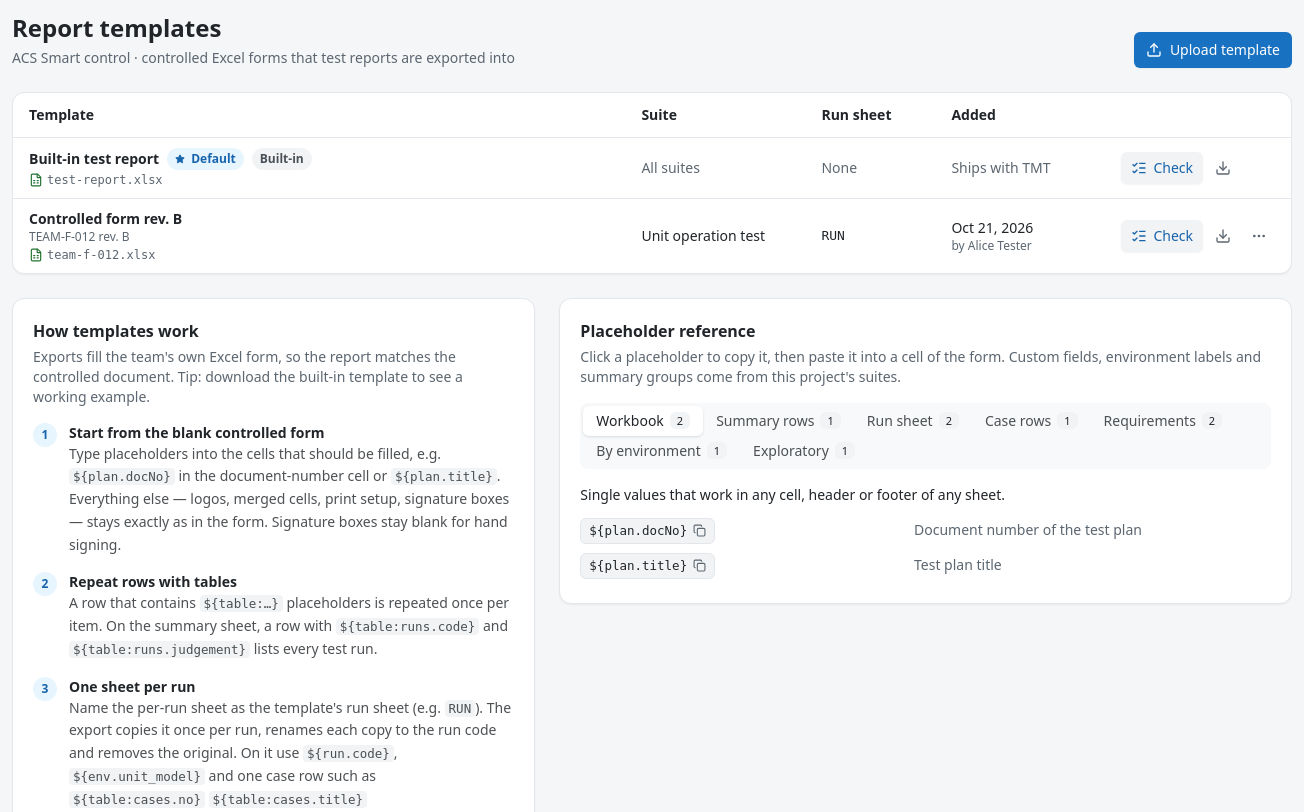
TemplatesPage › lists the templates and the placeholder reference
This screenshot has width=1304, height=812.
Expected: the text "Default" is shown, [167,148,244,170]
Expected: the text "Built-in" is shown, [252,148,312,170]
Step 1. Click the tab "Run sheet 2" → click(913, 420), box [854,406,972,436]
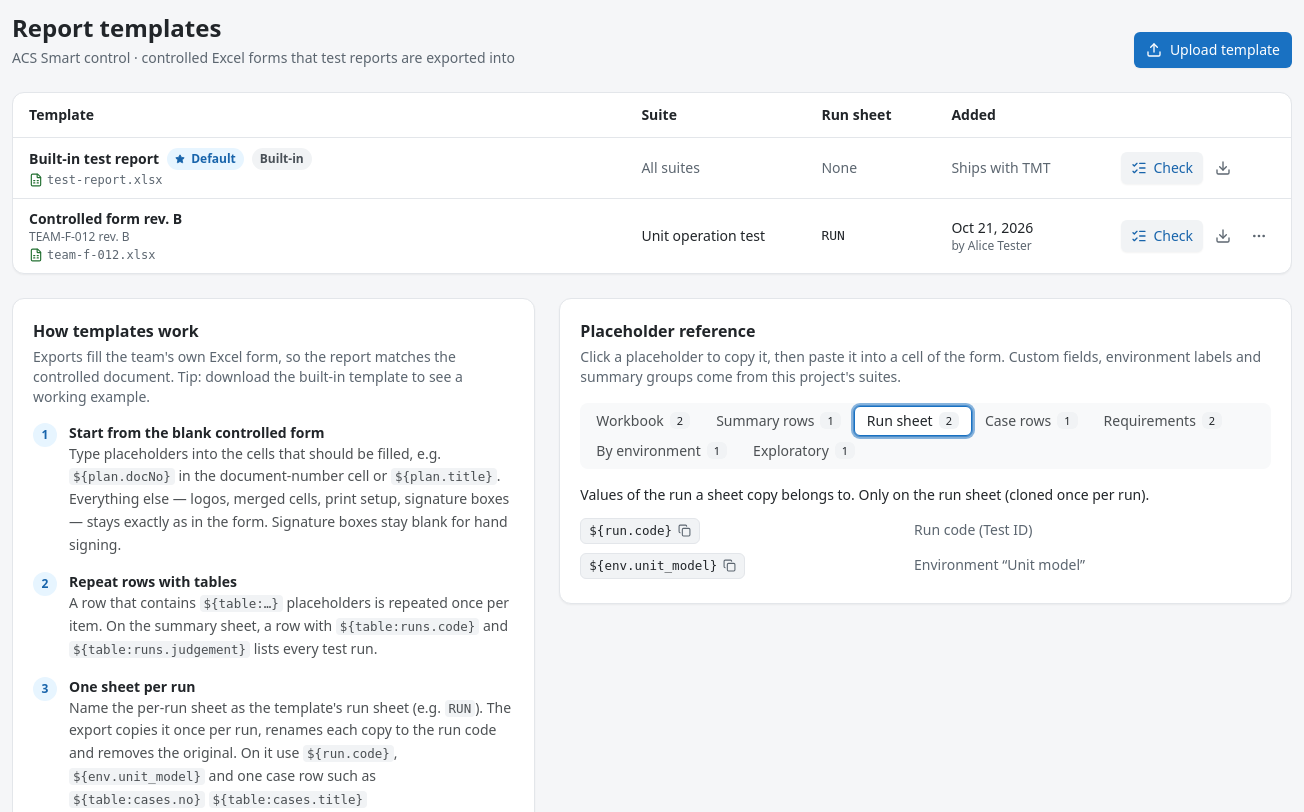
Expected: the text "Environment “Unit model”" is shown, [914,555,1085,574]
Tables that work on every sheet have their own tabs, with the number of placeholders.
Step 2. Click the tab "Requirements 2" → click(1163, 420), box [1091,406,1235,436]
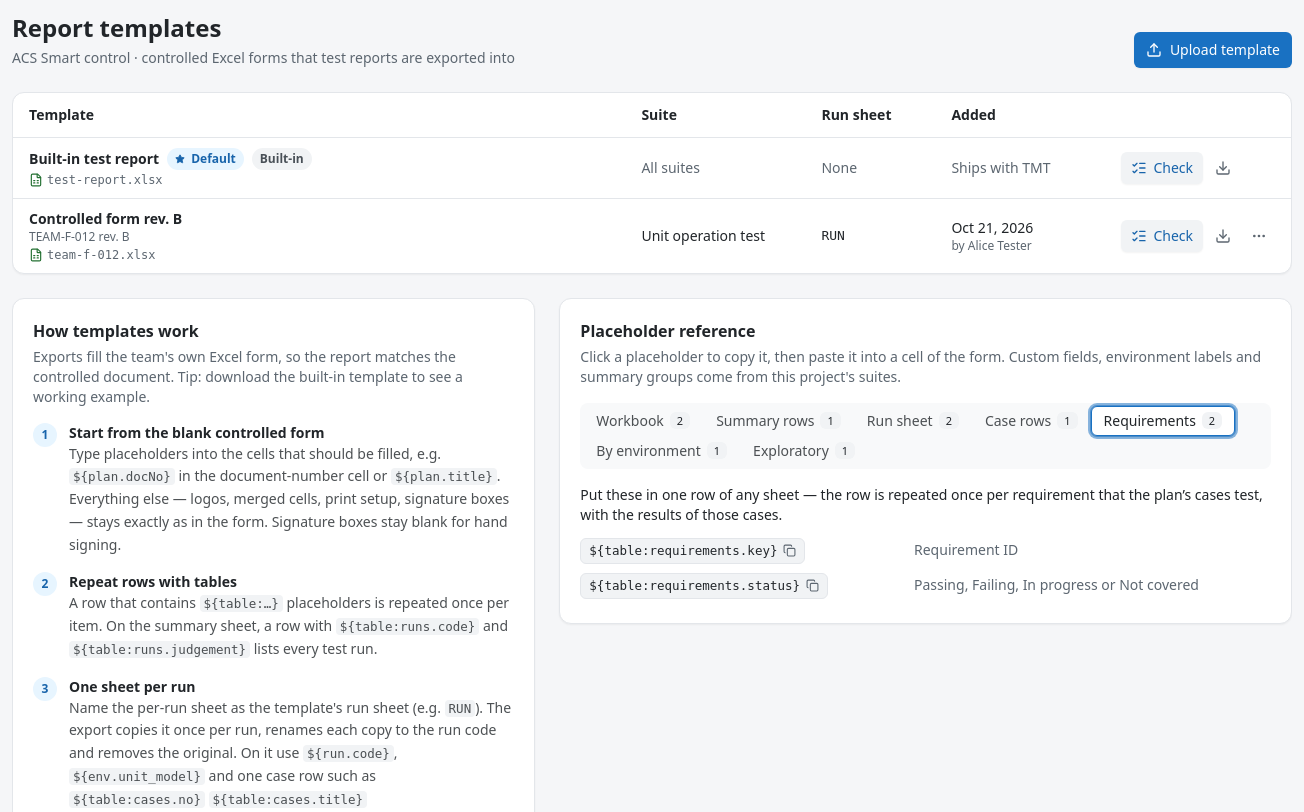
Expected: the text "Passing, Failing, In progress or Not covered" is shown, [914,575,1199,594]
Expected: the button with aria-label "Copy ${table:requirements.key}" is shown, [580,538,806,564]
Step 3. Click the tab "Exploratory 1" → click(804, 450), box [740,436,868,466]
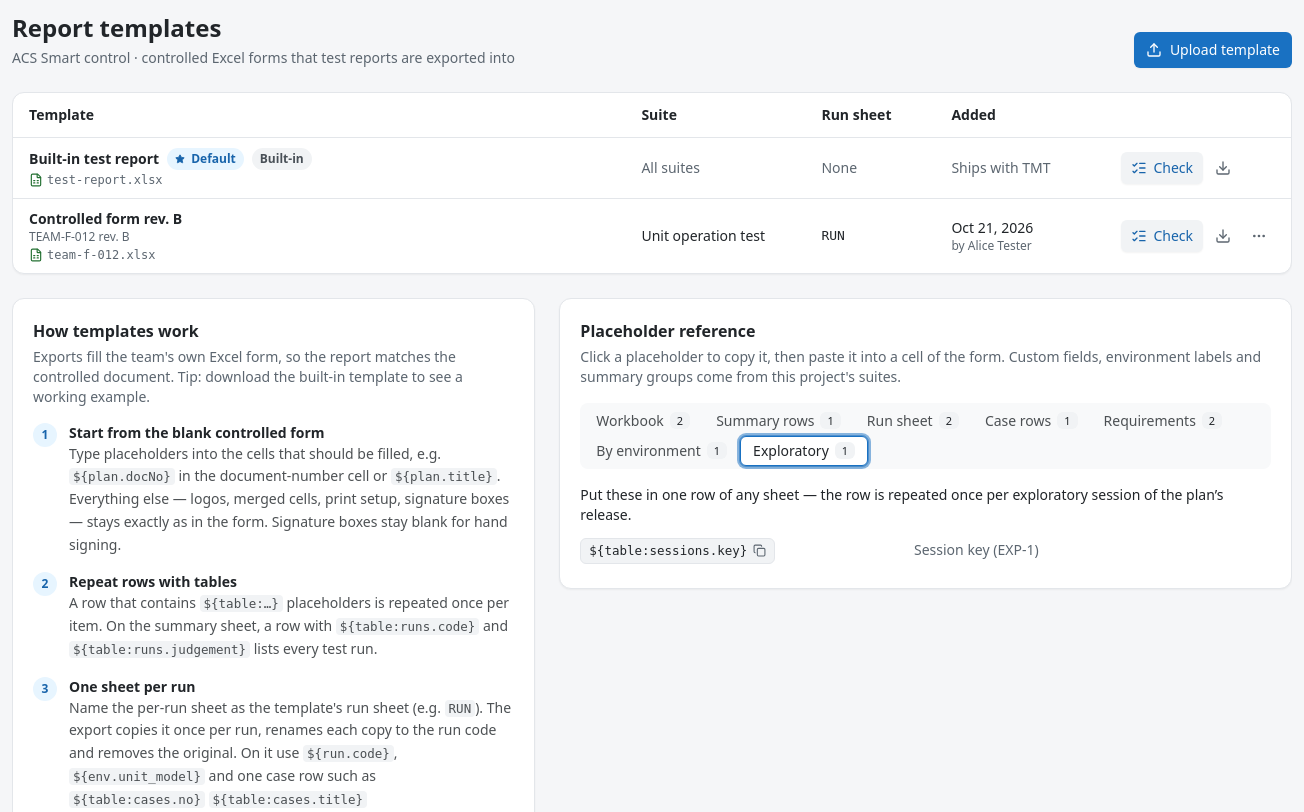
Expected: the text "Session key (EXP-1)" is shown, [914,540,1039,559]
Step 4. Click the tab "By environment 1" → click(662, 450), box [583,436,740,466]
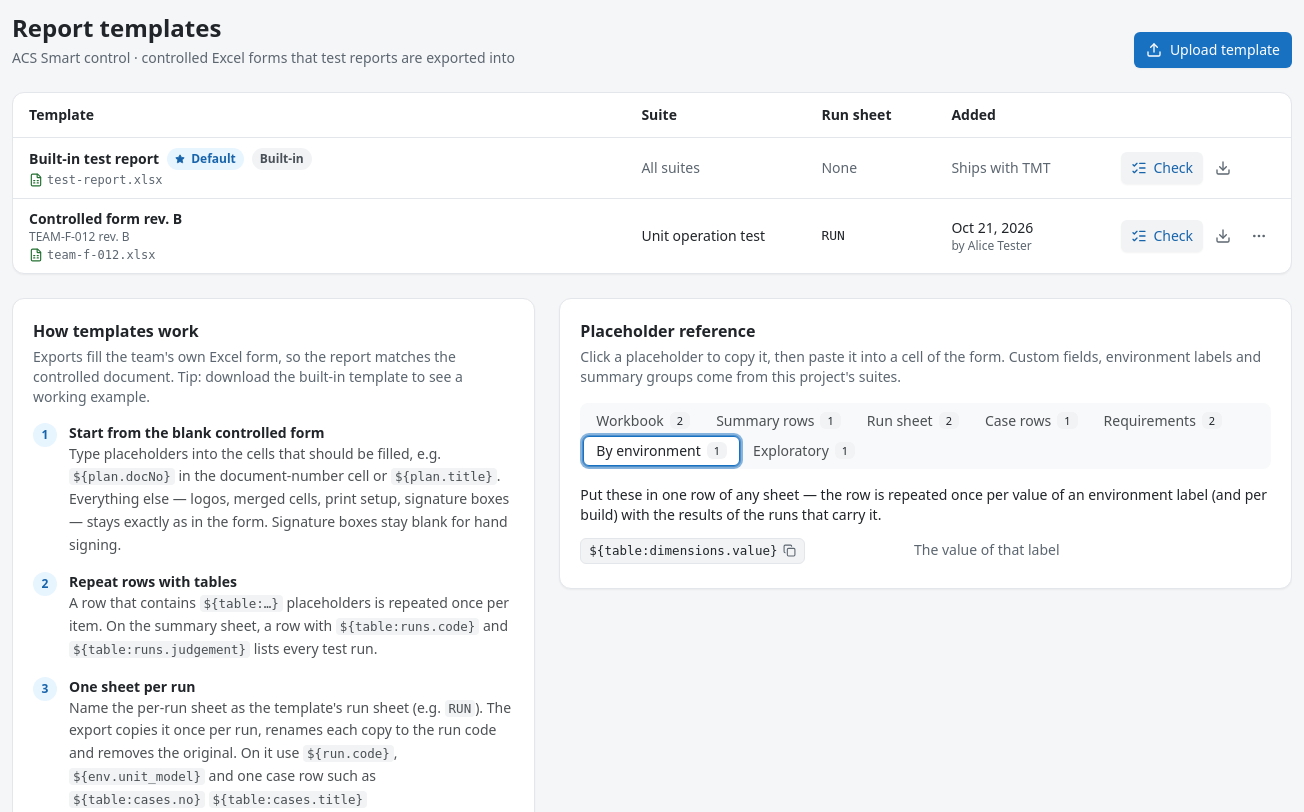
Expected: the text "The value of that label" is shown, [914,540,1060,559]
